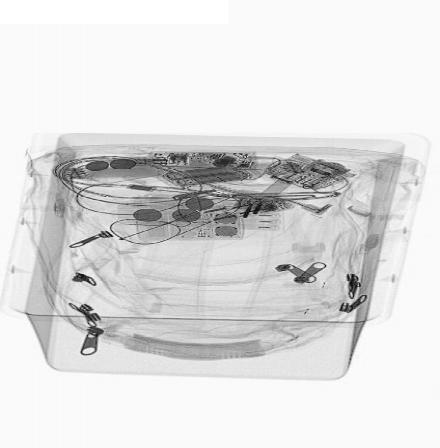Powerbank: (152, 162, 258, 190)
